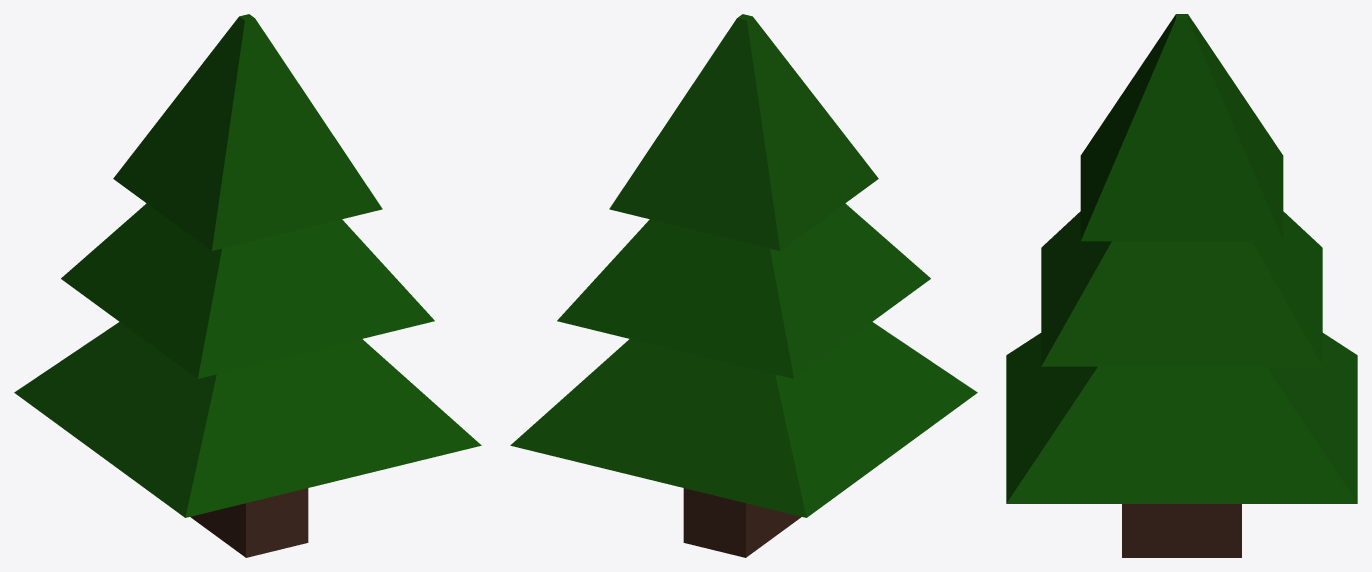
File: Tree.fbx
3 renders of one model, left to right at view 1: azimuth 30°, elevation 25°; view 2: azimuth 150°, elevation 25°; view 3: azimuth 270°, elevation 25°, orthographic. The views are drawn at different scales.
Visible parts, largest first — view 1: Tree; view 2: Tree; view 3: Tree.
Boxes of the visible parts, <box> form: Tree: <box>14,14,481,557</box>; Tree: <box>510,14,977,557</box>; Tree: <box>1006,14,1357,557</box>.
Bounding box in the file's own units: 585 × 965 × 585.
1 material, 1 textured.
